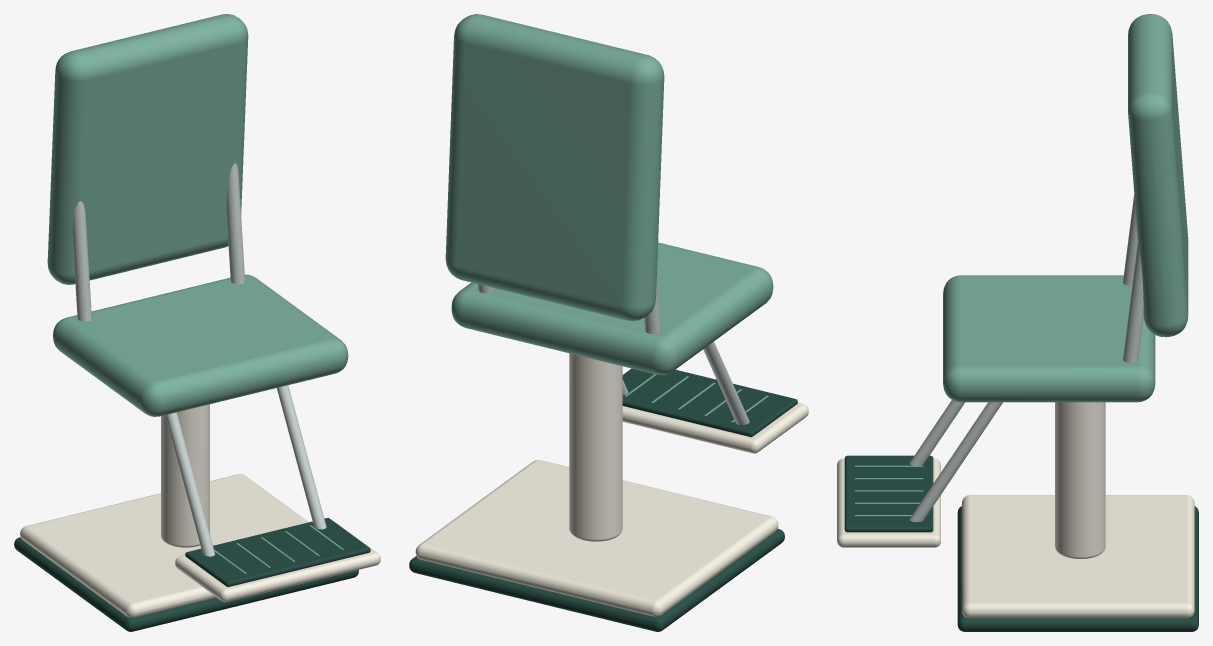
File: clinic-chair.glb
3 renders of one model, left to right at view 1: azimuth 30°, elevation 25°; view 2: azimuth 150°, elevation 25°; view 3: azimuth 270°, elevation 25°, orthographic. The views are drawn at different scales.
Visible parts, largest first — view 1: Chair | padded backrest, Chair | upholstered seat, Chair | stable enamel base, Chair | nonslip footrest, Chair | pedestal, Chair | grounded rubber base, Chair | footrest enamel, Chair | footrest brace, Chair | footrest brace.001, Chair | backrest upright, Chair | backrest upright.001; view 2: Chair | padded backrest, Chair | stable enamel base, Chair | upholstered seat, Chair | pedestal, Chair | nonslip footrest, Chair | grounded rubber base, Chair | footrest enamel, Chair | footrest brace; view 3: Chair | stable enamel base, Chair | upholstered seat, Chair | padded backrest, Chair | pedestal, Chair | nonslip footrest, Chair | grounded rubber base, Chair | footrest enamel, Chair | footrest brace.001, Chair | backrest upright.001, Chair | footrest brace, Chair | backrest upright.
Part boxes in pixels (<box>): Chair | padded backrest: <box>47,14,248,284</box>; Chair | upholstered seat: <box>53,274,348,416</box>; Chair | stable enamel base: <box>20,474,308,617</box>; Chair | nonslip footrest: <box>185,518,370,586</box>; Chair | pedestal: <box>161,404,209,547</box>; Chair | grounded rubber base: <box>14,537,358,631</box>; Chair | footrest enamel: <box>175,521,380,601</box>; Chair | footrest brace: <box>165,412,214,556</box>; Chair | footrest brace.001: <box>276,385,326,529</box>; Chair | backrest upright: <box>72,201,91,321</box>; Chair | backrest upright.001: <box>226,163,244,284</box>; Chair | padded backrest: <box>445,14,664,321</box>; Chair | stable enamel base: <box>415,460,778,616</box>; Chair | upholstered seat: <box>451,242,773,375</box>; Chair | pedestal: <box>569,353,622,541</box>; Chair | nonslip footrest: <box>622,368,797,437</box>; Chair | grounded rubber base: <box>409,529,784,631</box>; Chair | footrest enamel: <box>622,368,808,453</box>; Chair | footrest brace: <box>703,341,749,425</box>; Chair | stable enamel base: <box>962,495,1194,618</box>; Chair | upholstered seat: <box>943,275,1155,402</box>; Chair | padded backrest: <box>1128,14,1188,337</box>; Chair | pedestal: <box>1055,402,1105,558</box>; Chair | nonslip footrest: <box>844,455,933,532</box>; Chair | grounded rubber base: <box>957,506,1198,631</box>; Chair | footrest enamel: <box>837,458,940,547</box>; Chair | footrest brace.001: <box>909,402,1002,522</box>; Chair | backrest upright.001: <box>1123,241,1143,362</box>; Chair | footrest brace: <box>909,400,964,465</box>; Chair | backrest upright: <box>1123,194,1137,285</box>.
Bounding box in the file's own units: 0.67 × 1.38 × 0.87.
